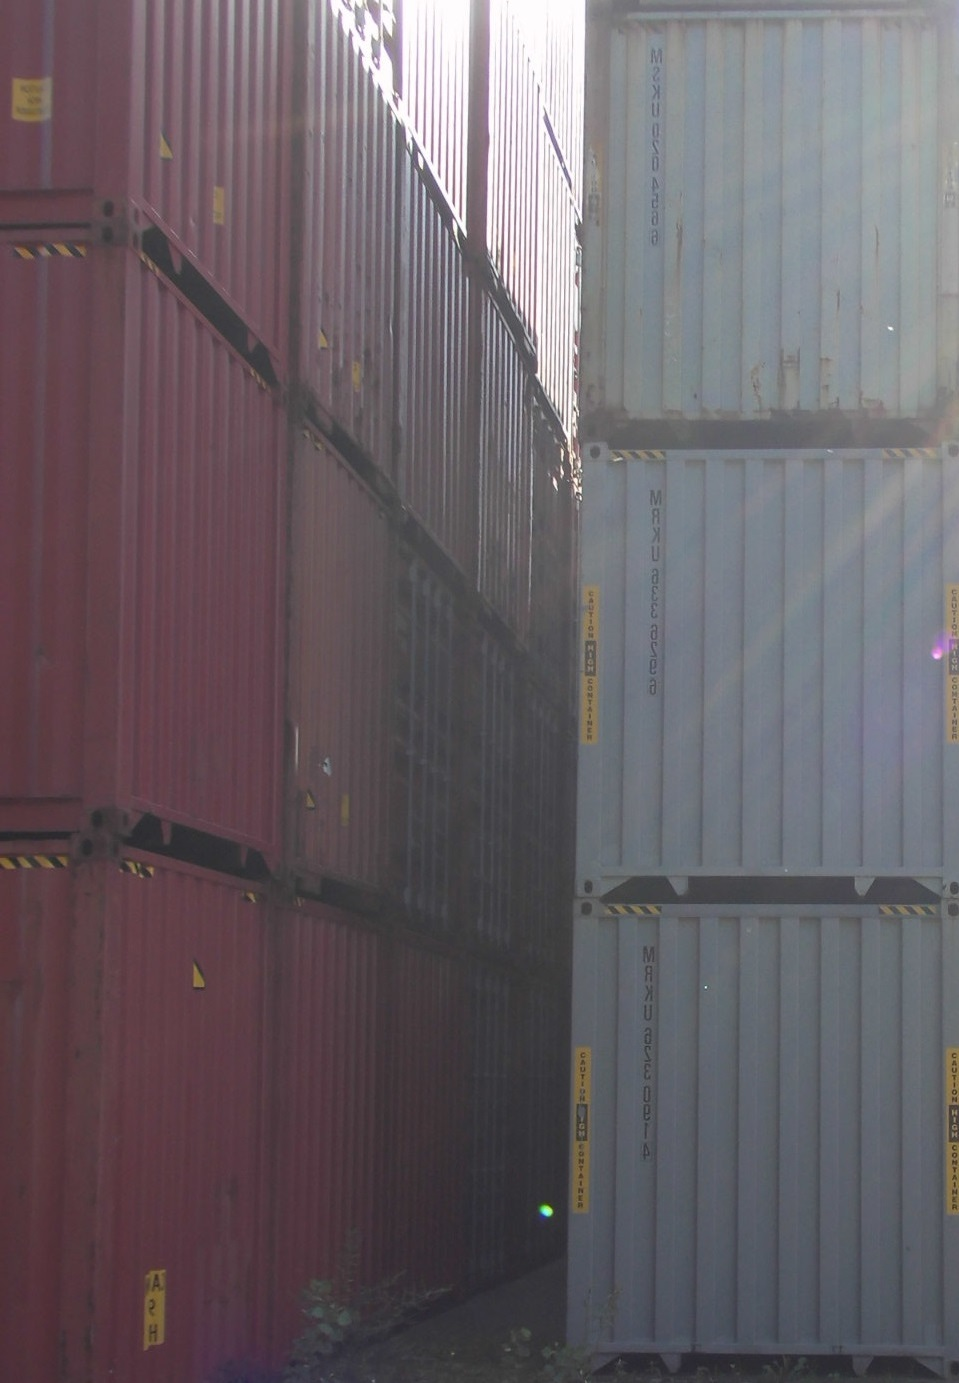container_no_door: (575, 433, 959, 895), (572, 901, 956, 1363), (577, 1, 959, 433), (98, 859, 284, 1383), (129, 256, 297, 833)
